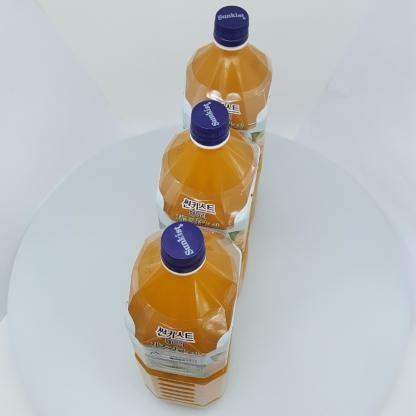-----------2L: (124, 221, 242, 408), (156, 100, 260, 300), (182, 5, 273, 222)
